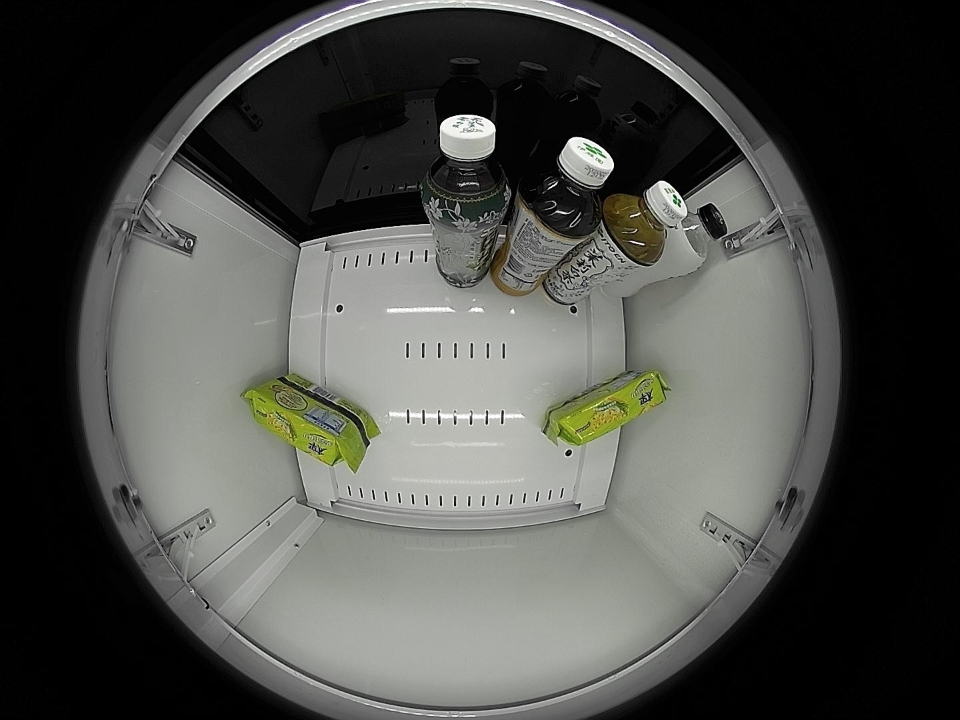baicha: (604, 180, 687, 266)
damaicha: (521, 135, 614, 235)
moliqingcha: (421, 114, 513, 218)
taipingshuda: (240, 374, 379, 474), (541, 368, 673, 448)
yuanqishui: (668, 203, 728, 270)
